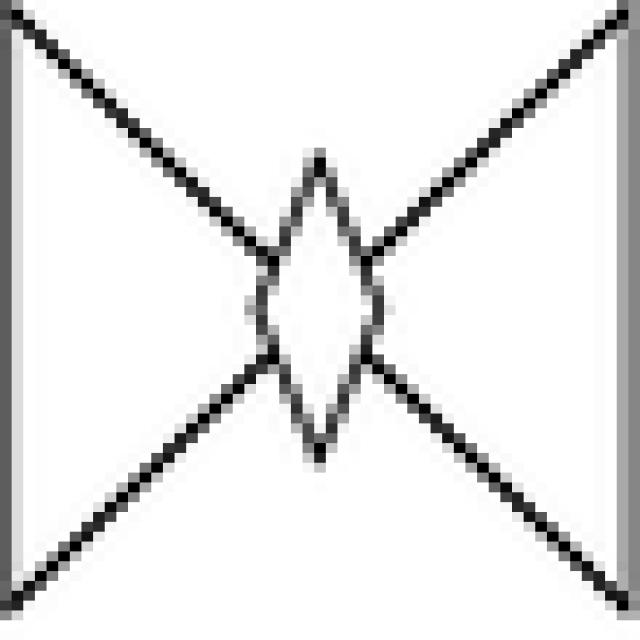Plug Valve: (0, 0, 631, 620)
